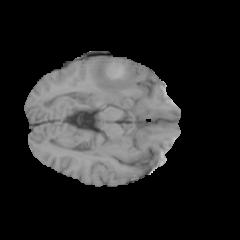glioma: (80, 56, 147, 100)
